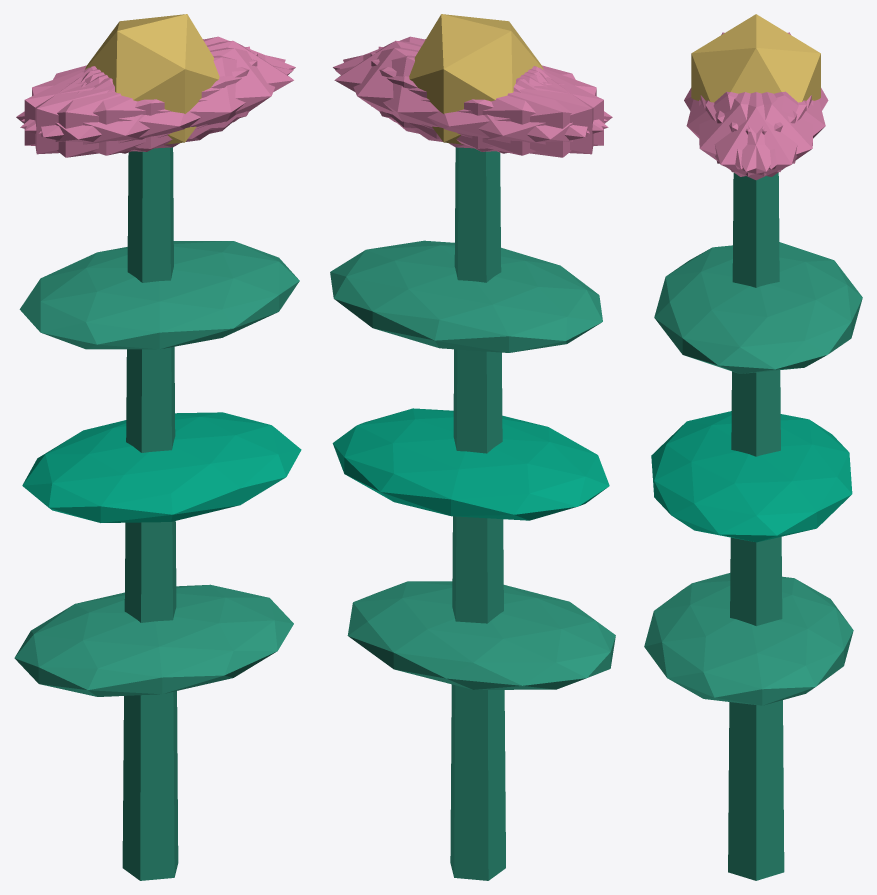
File: luffa-aegyptiaca.glb
3 views of the same model, side by side, from view 1: azimuth 30°, elevation 25°; view 2: azimuth 150°, elevation 25°; view 3: azimuth 270°, elevation 25° (orthographic).
Parts seen in each view (by area): view 1: stem, leaf0, leaf2, leaf1, center, petal1, petal6, petal2, petal5, petal7, petal0, petal4 (+2 smaller); view 2: stem, leaf2, leaf1, leaf0, center, petal8, petal3, petal7, petal4, petal2, petal0, petal5 (+2 smaller); view 3: stem, leaf2, leaf1, leaf0, center, petal0, petal4, petal5, petal1, petal8.
Boxes of the visible parts, x1=… form: stem: x1=122, y1=147, x2=178, y2=880; leaf0: x1=14, y1=584, x2=293, y2=696; leaf2: x1=19, y1=241, x2=299, y2=349; leaf1: x1=22, y1=412, x2=301, y2=522; center: x1=85, y1=14, x2=219, y2=144; petal1: x1=20, y1=55, x2=293, y2=155; petal6: x1=16, y1=67, x2=213, y2=157; petal2: x1=35, y1=46, x2=249, y2=154; petal5: x1=39, y1=47, x2=285, y2=148; petal7: x1=24, y1=52, x2=257, y2=151; petal0: x1=84, y1=40, x2=293, y2=139; petal4: x1=21, y1=36, x2=295, y2=130; stem: x1=450, y1=147, x2=505, y2=880; leaf2: x1=330, y1=240, x2=602, y2=352; leaf1: x1=332, y1=408, x2=609, y2=520; leaf0: x1=347, y1=581, x2=615, y2=689; center: x1=409, y1=14, x2=543, y2=144; petal8: x1=335, y1=55, x2=608, y2=155; petal3: x1=415, y1=67, x2=612, y2=157; petal7: x1=378, y1=46, x2=593, y2=154; petal4: x1=343, y1=47, x2=589, y2=148; petal2: x1=370, y1=52, x2=603, y2=151; petal0: x1=334, y1=40, x2=543, y2=139; petal5: x1=333, y1=36, x2=606, y2=130; stem: x1=728, y1=172, x2=784, y2=880; leaf2: x1=654, y1=242, x2=862, y2=373; leaf1: x1=651, y1=411, x2=852, y2=542; leaf0: x1=644, y1=573, x2=853, y2=705; center: x1=691, y1=14, x2=820, y2=102; petal0: x1=700, y1=92, x2=811, y2=180; petal4: x1=705, y1=92, x2=813, y2=176; petal5: x1=699, y1=92, x2=806, y2=176; petal1: x1=686, y1=91, x2=796, y2=169; petal8: x1=715, y1=91, x2=825, y2=169.
Size of the model in its own units: 0.1452 by 0.4371 by 0.1035.
